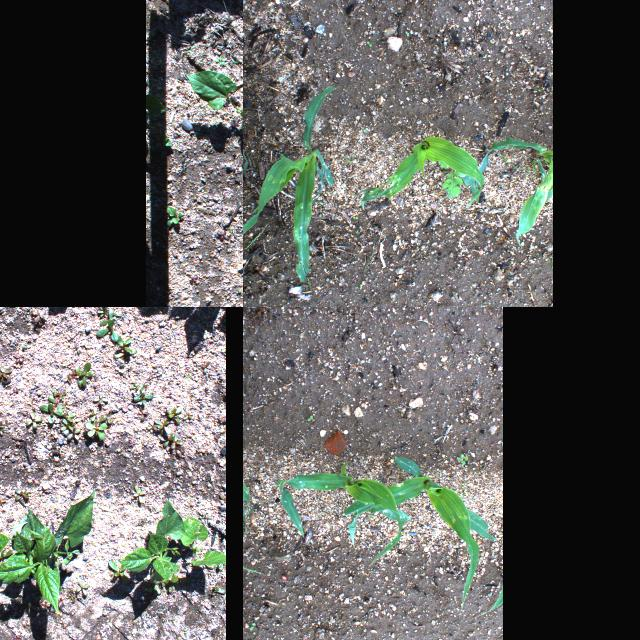crop: (343, 456, 495, 612), (243, 86, 334, 282), (277, 462, 403, 566), (0, 490, 94, 616), (462, 137, 552, 249), (354, 138, 484, 212), (124, 499, 182, 581), (185, 70, 243, 143), (178, 518, 226, 570), (476, 586, 502, 616), (146, 94, 166, 130)
weed: (438, 158, 467, 198), (41, 392, 67, 423), (106, 560, 132, 586), (100, 307, 124, 329), (115, 334, 137, 358), (95, 318, 116, 342), (76, 362, 92, 388), (152, 132, 172, 152), (85, 421, 107, 439), (165, 206, 183, 227), (25, 412, 43, 431), (132, 392, 154, 406), (459, 478, 471, 502), (168, 434, 185, 450), (154, 420, 172, 434), (151, 576, 171, 588), (168, 408, 182, 424), (136, 406, 150, 422), (31, 309, 47, 323), (58, 412, 76, 424), (68, 427, 82, 441), (134, 486, 144, 504), (89, 406, 99, 424), (99, 414, 113, 426), (62, 419, 76, 431), (460, 466, 488, 472), (15, 491, 30, 502), (0, 366, 13, 378), (200, 360, 212, 372), (457, 453, 469, 465), (77, 583, 87, 597), (94, 394, 108, 404), (460, 476, 470, 490), (217, 231, 230, 241), (0, 550, 13, 560), (176, 446, 186, 458), (147, 420, 159, 430), (97, 307, 108, 317), (188, 274, 198, 284), (214, 58, 226, 66), (186, 45, 198, 53), (184, 412, 196, 420), (130, 384, 142, 391), (17, 353, 25, 363), (248, 621, 256, 631), (306, 414, 314, 422), (226, 228, 232, 232), (235, 289, 241, 293)
